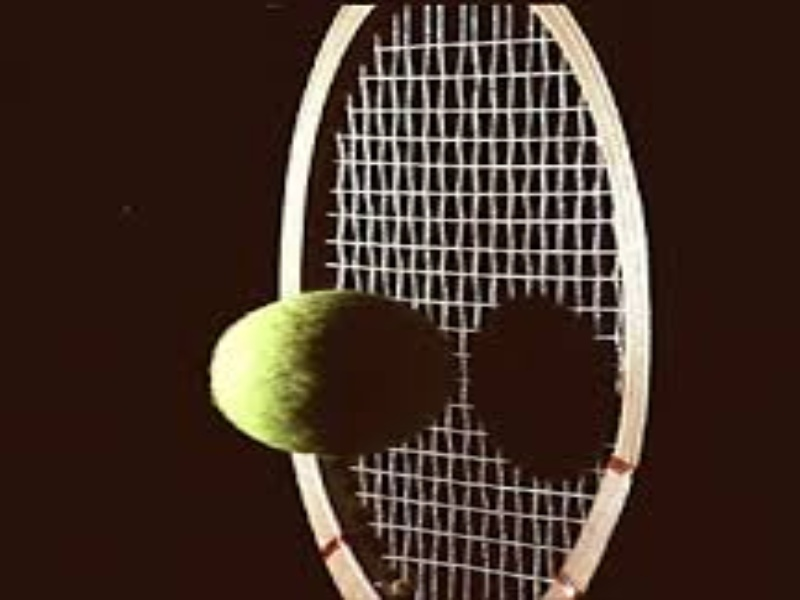tennis ball: (192, 280, 457, 464)
